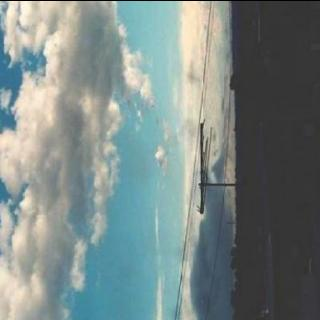Stratocumulus: (0, 0, 168, 320)
